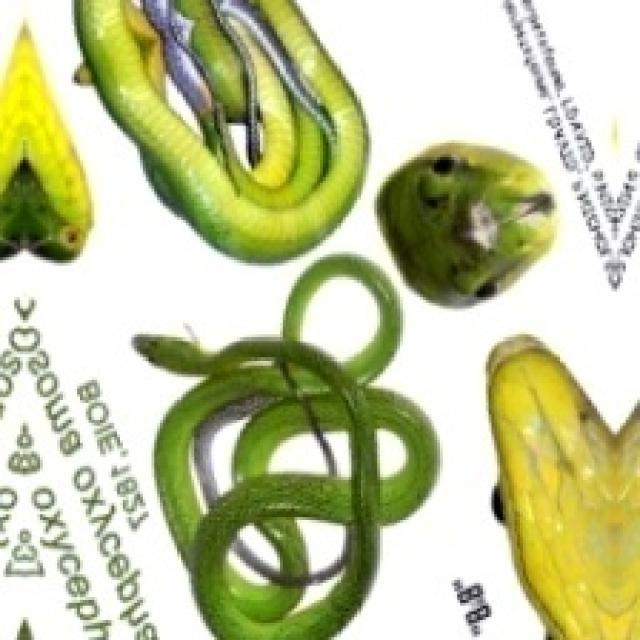red-tailed green ratsnake: (134, 254, 434, 637), (74, 0, 366, 260), (489, 334, 637, 637), (377, 143, 554, 303), (0, 26, 89, 257), (297, 274, 380, 363)
